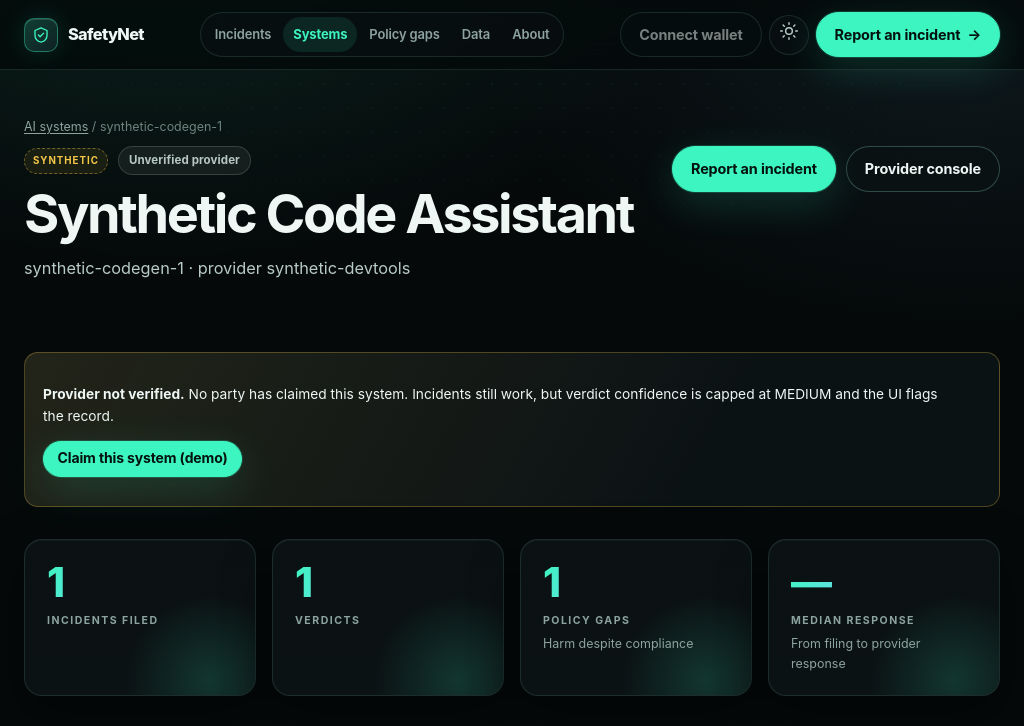
Scenario: demo provider flows › claims an unverified system
Click the button "Claim this system (demo)" at coordinates (143, 459), box [43,441,242,477]
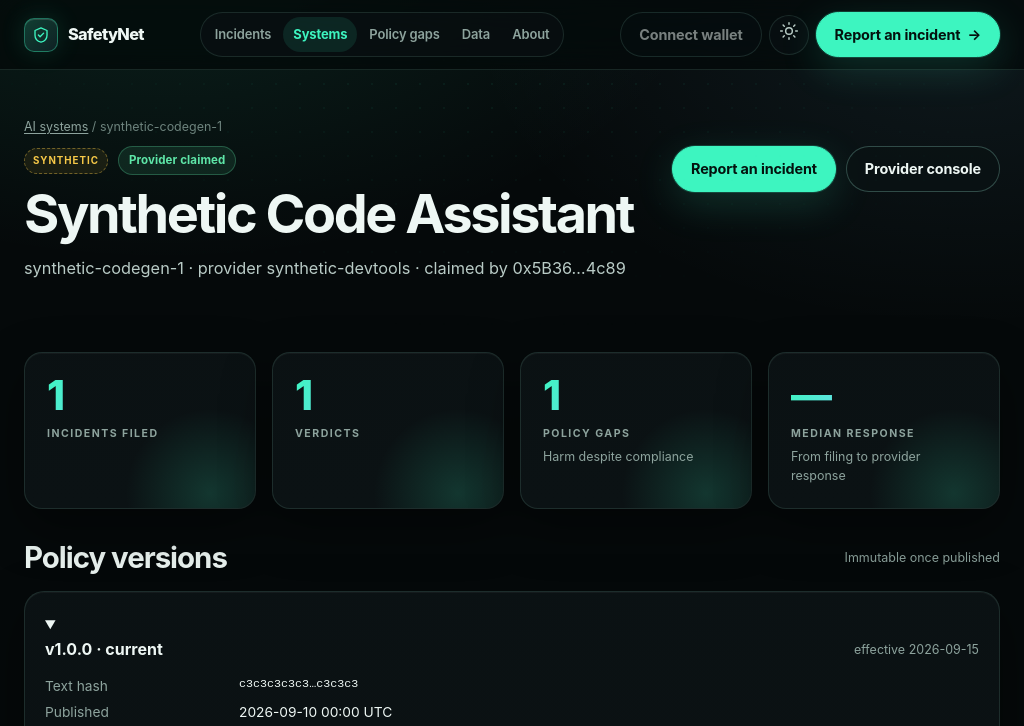
Expected: the text "Provider claimed" is shown, [118,146,236,175]
